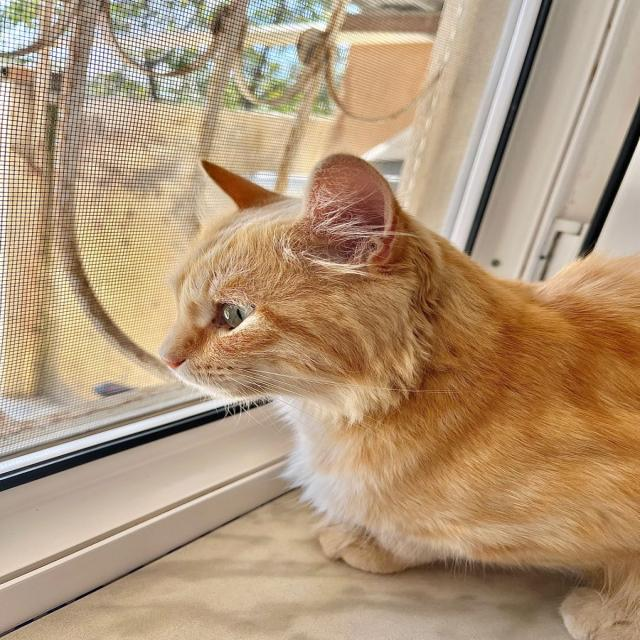sarman: (161, 154, 639, 639)
